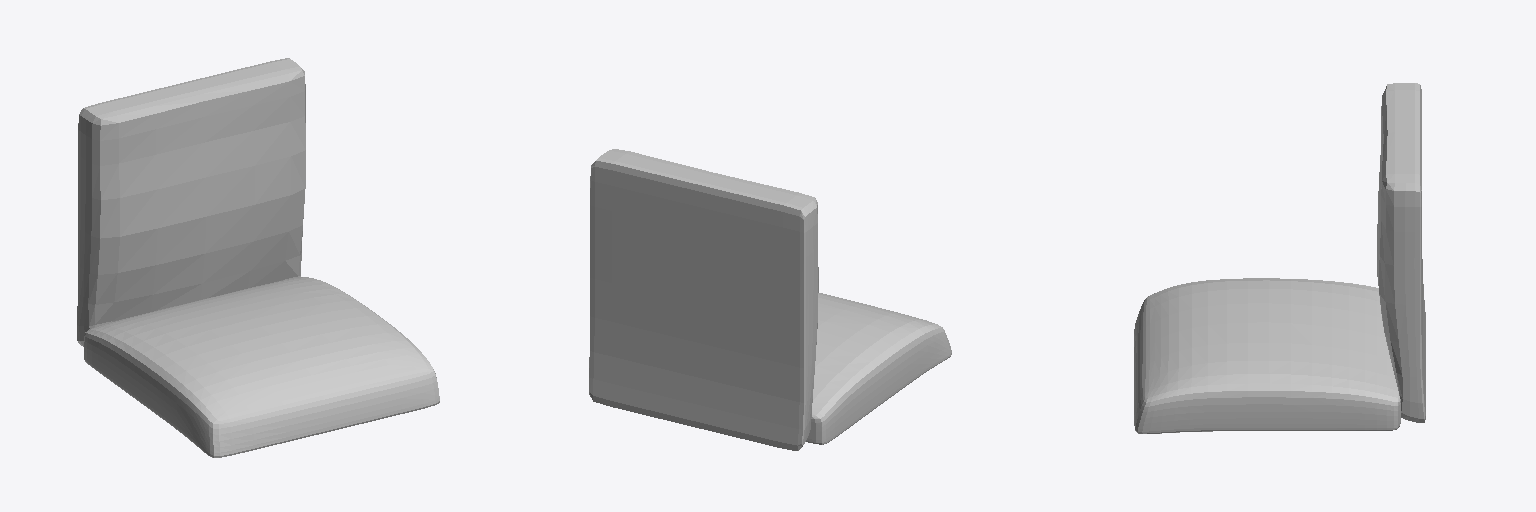
The model's file is SetA_Chair_Style_03_Cushions.obj.
3 views of the same model, side by side, from view 1: azimuth 30°, elevation 25°; view 2: azimuth 150°, elevation 25°; view 3: azimuth 270°, elevation 25° (orthographic).
Visible parts, largest first — view 1: SetA_Chair_Style_03_Cushions; view 2: SetA_Chair_Style_03_Cushions; view 3: SetA_Chair_Style_03_Cushions.
Boxes of the visible parts, <box> form: SetA_Chair_Style_03_Cushions: <box>77,58,439,457</box>; SetA_Chair_Style_03_Cushions: <box>589,149,951,450</box>; SetA_Chair_Style_03_Cushions: <box>1134,83,1425,433</box>.
Bounding box in the file's own units: 0.4866 × 0.4957 × 0.5311.